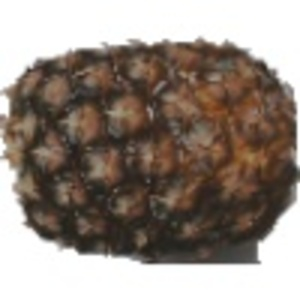abacaxi: (2, 32, 295, 252)
